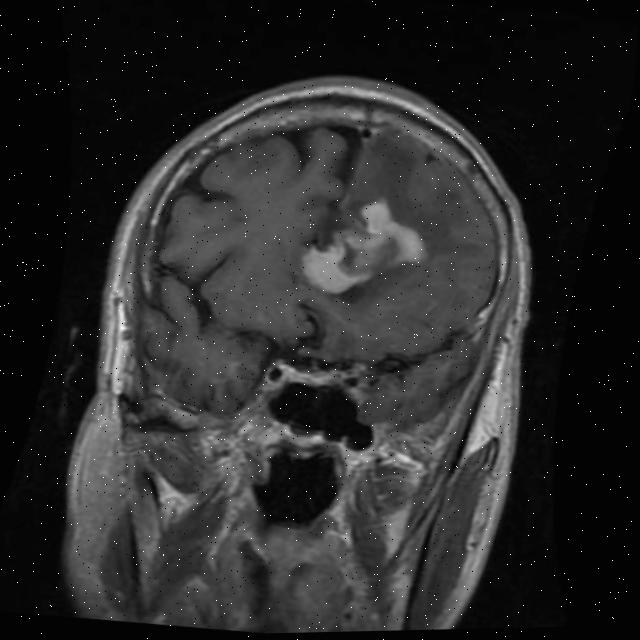Glioma: (295, 189, 439, 305)
